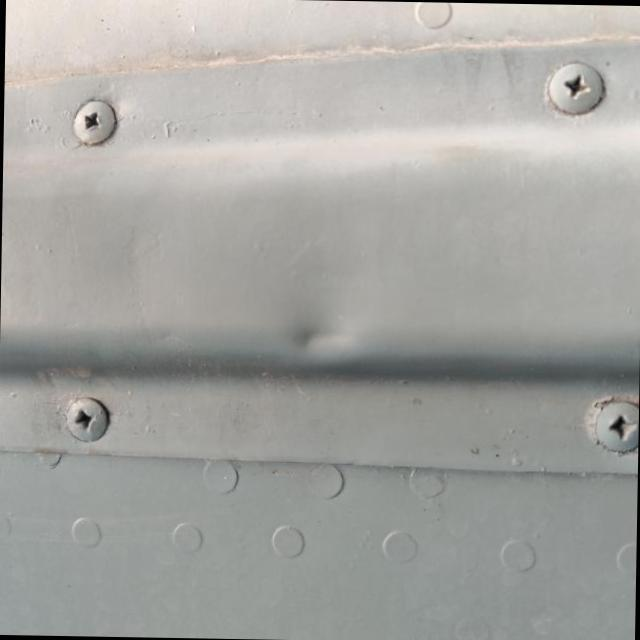Dent: (274, 298, 361, 380)
